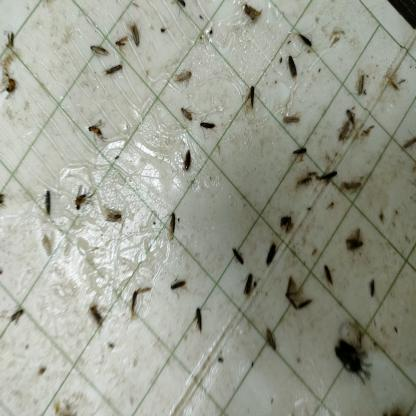prays_oleae: (82, 300, 116, 340), (70, 178, 96, 216), (126, 284, 152, 318), (278, 270, 296, 318), (106, 198, 130, 230), (263, 322, 282, 360), (341, 174, 366, 200), (343, 228, 365, 256), (294, 292, 314, 322), (397, 127, 416, 158), (278, 104, 300, 130), (263, 240, 280, 272), (83, 120, 107, 142), (230, 240, 247, 270), (130, 18, 144, 54), (286, 53, 300, 87), (242, 274, 258, 302), (180, 150, 198, 174), (292, 139, 310, 163), (246, 84, 260, 114), (166, 212, 178, 247), (336, 116, 352, 142), (170, 275, 190, 295), (296, 26, 312, 51), (199, 115, 216, 138), (194, 306, 206, 338), (113, 31, 130, 53), (344, 100, 358, 126), (88, 40, 108, 57), (104, 63, 126, 77), (322, 260, 332, 290), (180, 104, 194, 124), (356, 72, 366, 100), (42, 188, 54, 211), (324, 165, 340, 180), (170, 0, 186, 12)
